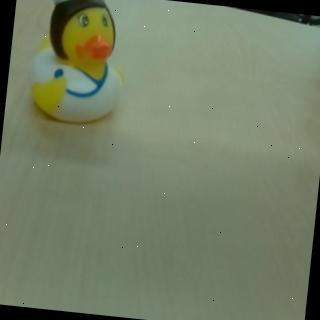duck_specialty: (24, 1, 135, 129)
